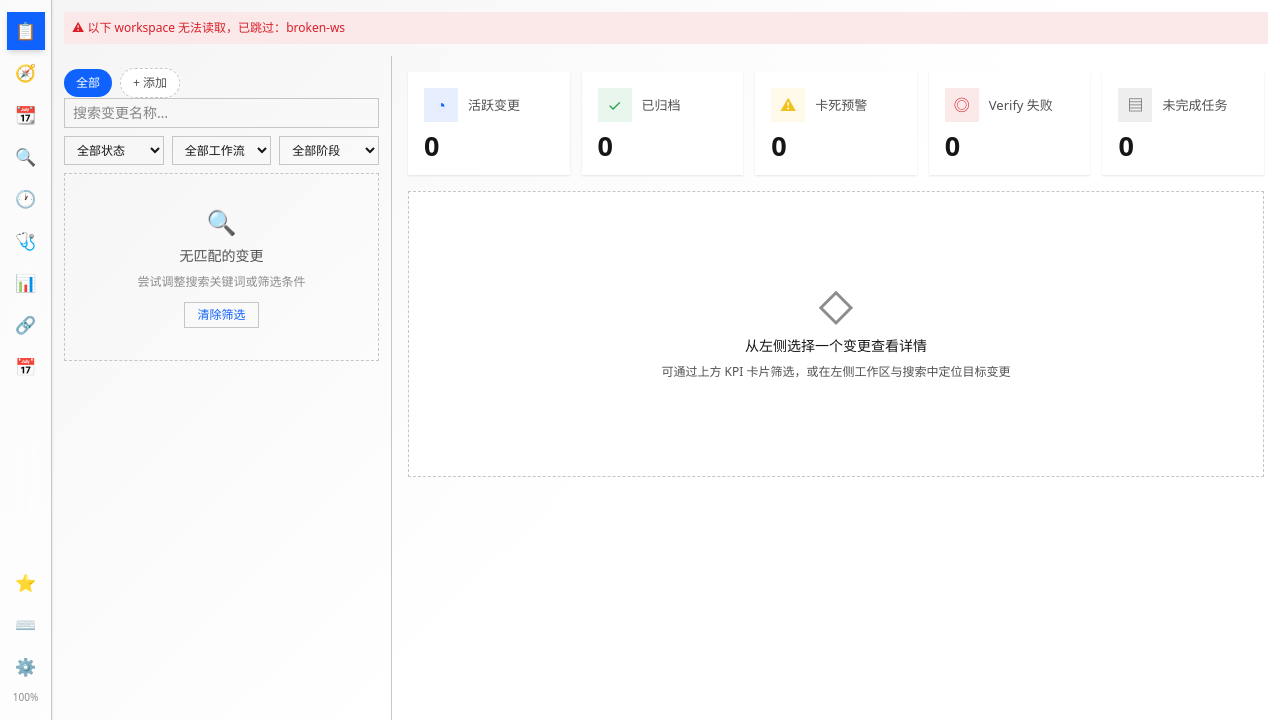
Scenario: App view switcher › shows ChatBubble only while a standalone recent document is open
Expected: the text "⚠ 以下 workspace 无法读取，已跳过：broken-ws" is shown, [64,12,1268,44]
Click the button named "最近更新".
click(26, 199)  # box [6,180,44,218]
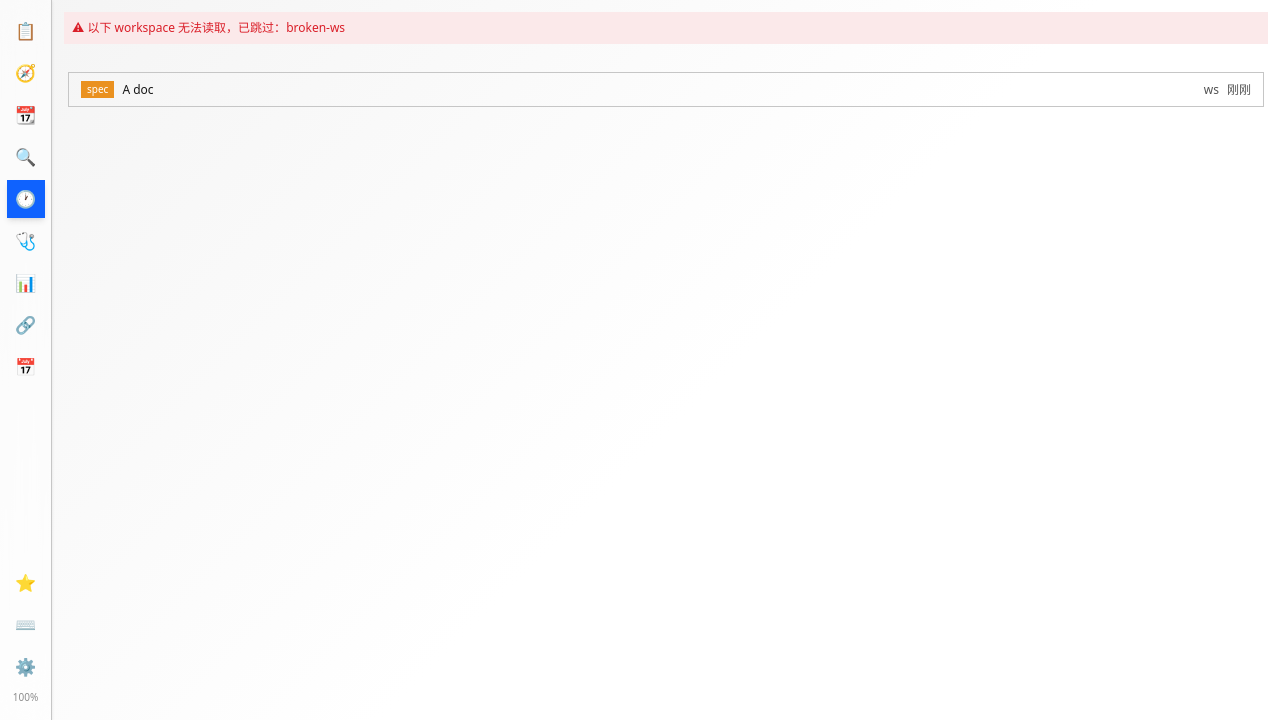
Click the text "A doc".
click(138, 89)  # box [122,81,154,98]
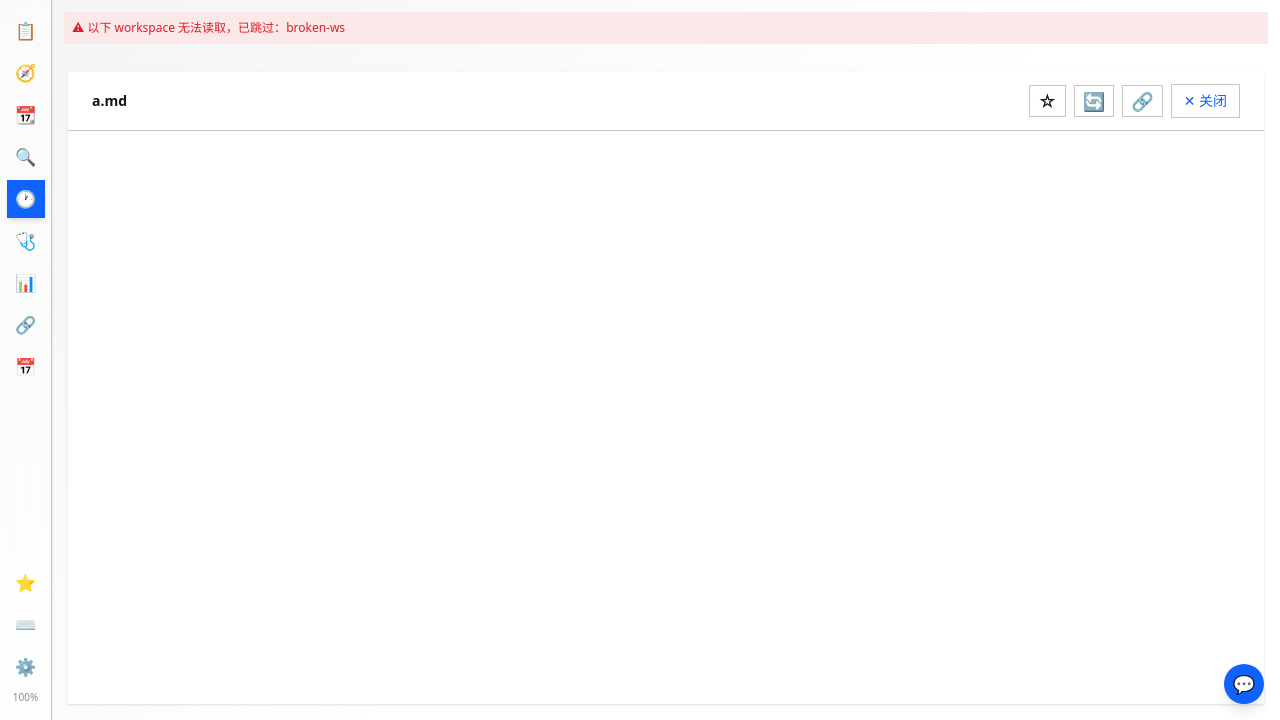
Expected: the button "✕ 关闭" is shown
Expected: the button with test id "chat-bubble-button" is shown, [1224,664,1264,704]
Click the button "✕ 关闭".
click(1205, 101)  # box [1171,84,1240,118]
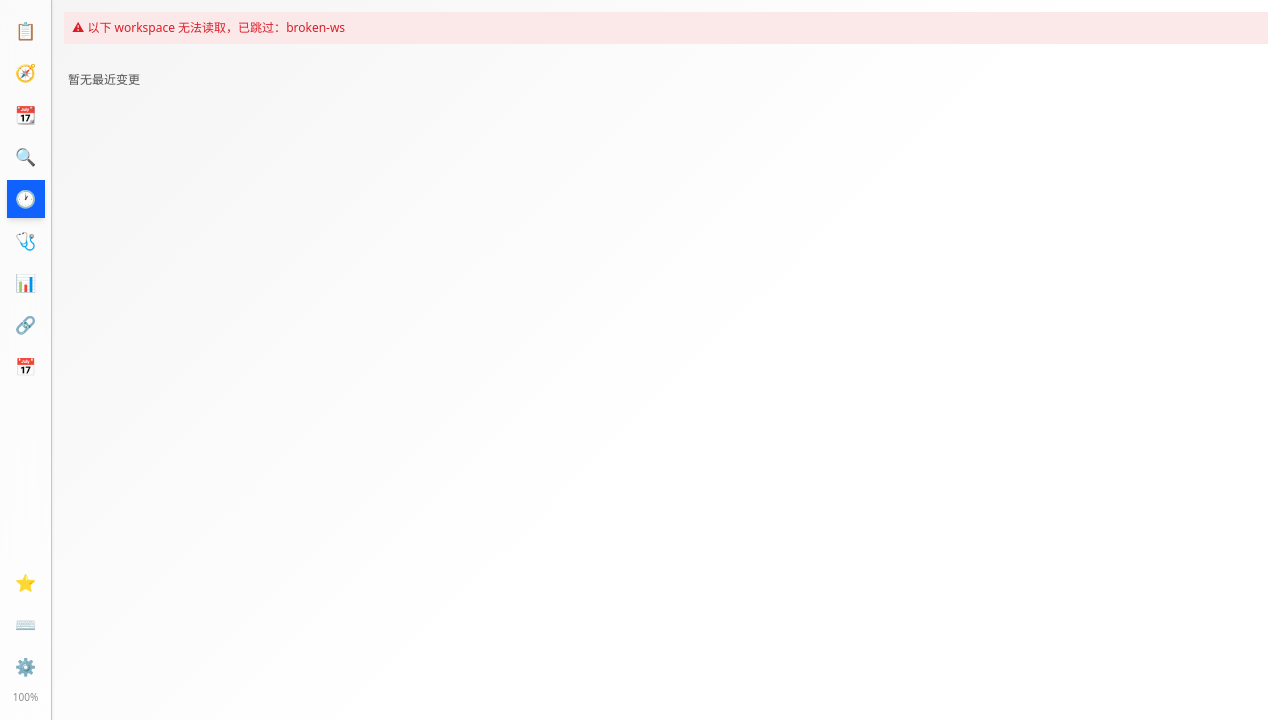
Expected: the button with test id "chat-bubble-button" is gone
Expected: the text "暂无最近变更" is shown, [68,71,140,88]
